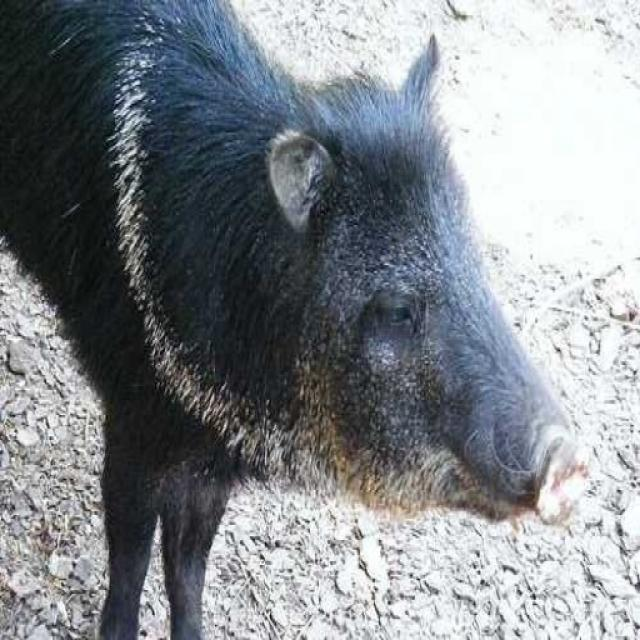pig: (0, 0, 600, 623)
